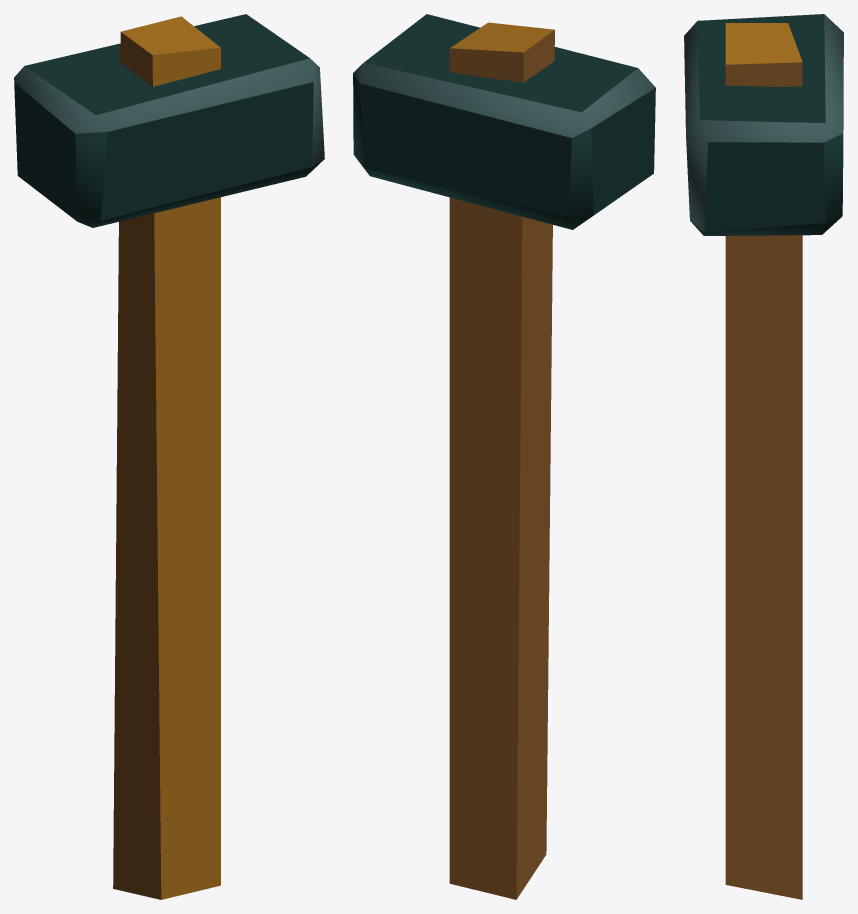
File: martelo.fbx
3 views of the same model, side by side, from view 1: azimuth 30°, elevation 25°; view 2: azimuth 150°, elevation 25°; view 3: azimuth 270°, elevation 25° (orthographic). The views are drawn at different scales.
Visible parts, largest first — view 1: martelo; view 2: martelo; view 3: martelo.
Part boxes in pixels (box(x1,y1,x2,y2)): martelo: box(14, 14, 324, 899); martelo: box(353, 14, 655, 899); martelo: box(684, 14, 843, 899).
Bounding box in the file's own units: 20.24 × 66.22 × 11.36.
